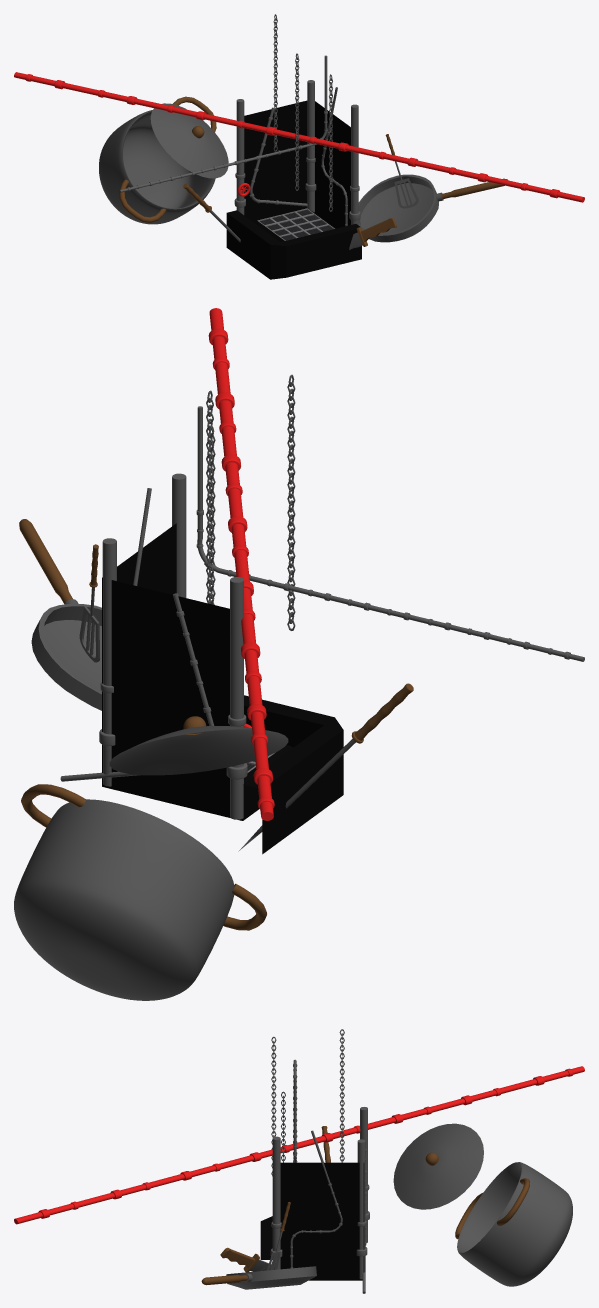
The model's file is SALA BRUJA (1).fbx.
3 views of the same model, one above another, from view 1: azimuth 30°, elevation 25°; view 2: azimuth 150°, elevation 25°; view 3: azimuth 270°, elevation 25° (orthographic). The views are drawn at different scales.
Visible parts, largest first — view 1: Cube.002, Cylinder.002, Cylinder.006, Cylinder.030, Cube.001, Cylinder.005, Cylinder.019, Cylinder.004, Cube, Cylinder.009, Torus.003, Torus.004 (+4 smaller); view 2: Cylinder.002, Cube.002, Cylinder.030, Cylinder.005, Cylinder.006, Cube.001, Cylinder.019, Torus.003, Cylinder.003, Torus.002, Cylinder.009, Cylinder (+2 smaller); view 3: Cylinder.002, Cube.002, Cube.001, Cylinder.030, Cylinder.005, Cylinder.006, Cube, Cylinder.014, Torus.002, Torus.003, Cylinder.019, Cylinder.001 (+1 smaller).
Part boxes in pixels (box(x1,y1,x2,y2)): Cube.002: box(226, 100, 361, 279); Cylinder.002: box(99, 110, 215, 224); Cylinder.006: box(358, 174, 507, 242); Cylinder.030: box(14, 72, 584, 202); Cube.001: box(150, 103, 228, 178); Cylinder.005: box(234, 80, 360, 225); Cylinder.019: box(119, 55, 327, 192); Cylinder.004: box(259, 210, 333, 240); Cube: box(349, 218, 396, 249); Cylinder.009: box(249, 107, 307, 206); Torus.003: box(295, 53, 299, 190); Torus.004: box(329, 74, 332, 211); Cylinder.002: box(14, 799, 234, 1000); Cube.002: box(102, 523, 343, 854); Cylinder.030: box(208, 308, 274, 820); Cylinder.005: box(99, 473, 247, 819); Cylinder.006: box(19, 519, 101, 710); Cube.001: box(109, 716, 288, 775); Cylinder.019: box(196, 406, 584, 661); Torus.003: box(287, 374, 295, 630); Cylinder.003: box(238, 683, 413, 851); Torus.002: box(206, 390, 213, 604); Cylinder.009: box(60, 593, 214, 781); Cylinder: box(79, 544, 99, 662); Cylinder.002: box(457, 1162, 572, 1286); Cube.002: box(260, 1162, 364, 1280); Cube.001: box(393, 1123, 483, 1209); Cylinder.030: box(14, 1066, 584, 1224); Cylinder.005: box(270, 1107, 369, 1279); Cylinder.006: box(201, 1266, 316, 1289); Cube: box(220, 1247, 272, 1272); Cylinder.014: box(290, 1130, 342, 1268); Torus.002: box(339, 1029, 344, 1162); Torus.003: box(271, 1036, 276, 1176); Cylinder.019: box(293, 1059, 297, 1162); Cylinder.001: box(497, 1178, 529, 1225).
Size of the model in its own units: 13797 by 9808 by 18812.
